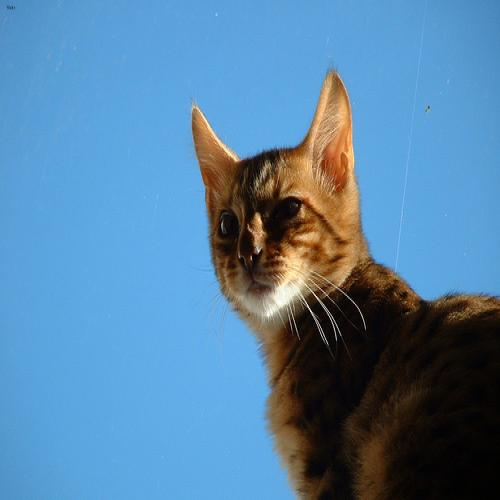cat-face: (185, 68, 367, 317)
